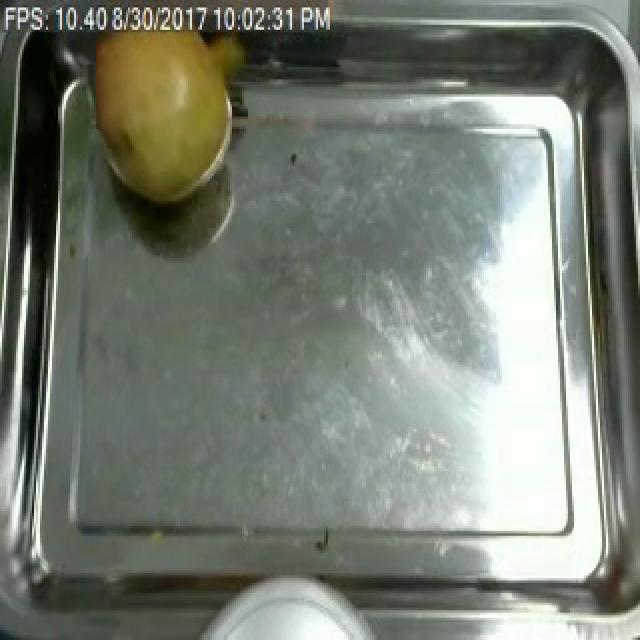fruit: (82, 0, 248, 213)
